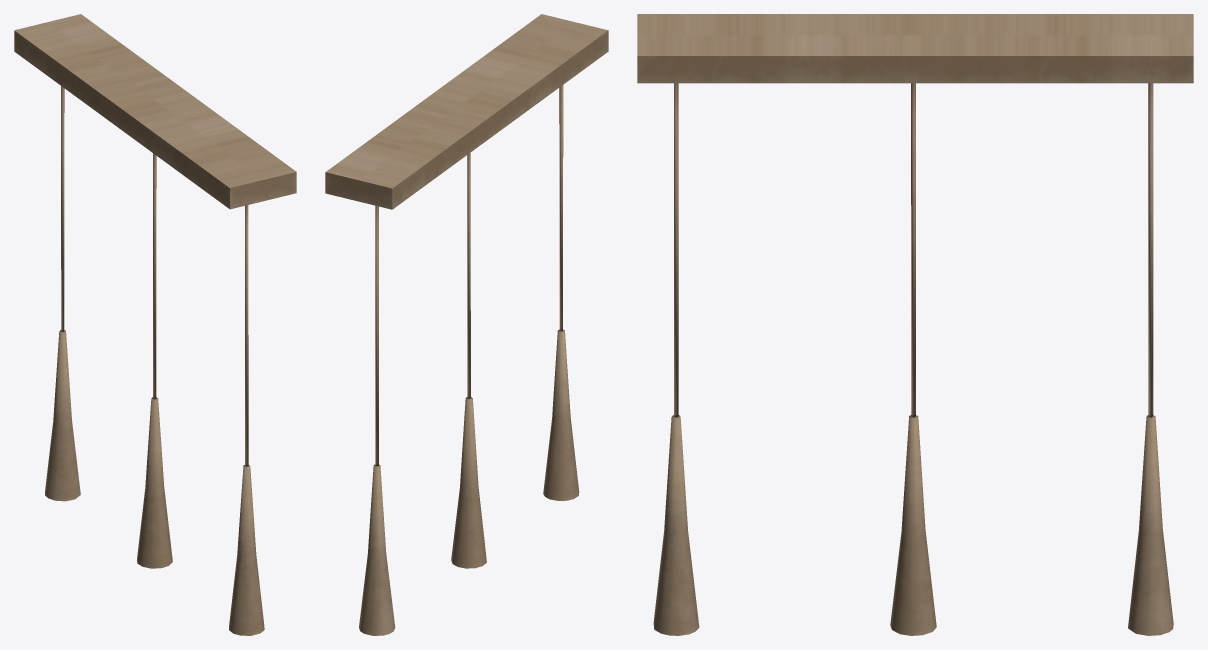
The model's file is Light_3.fbx.
3 renders of one model, left to right at view 1: azimuth 30°, elevation 25°; view 2: azimuth 150°, elevation 25°; view 3: azimuth 270°, elevation 25°, orthographic. The views are drawn at different scales.
Parts seen in each view (by area): view 1: lighting; view 2: lighting; view 3: lighting.
Boxes of the visible parts, x1,y1,x2,y2 form: lighting: (14,14,296,635); lighting: (325,14,608,635); lighting: (637,14,1193,635).
Bounding box in the file's own units: 0.2247 × 1.47 × 1.26.
1 material, 1 textured.
